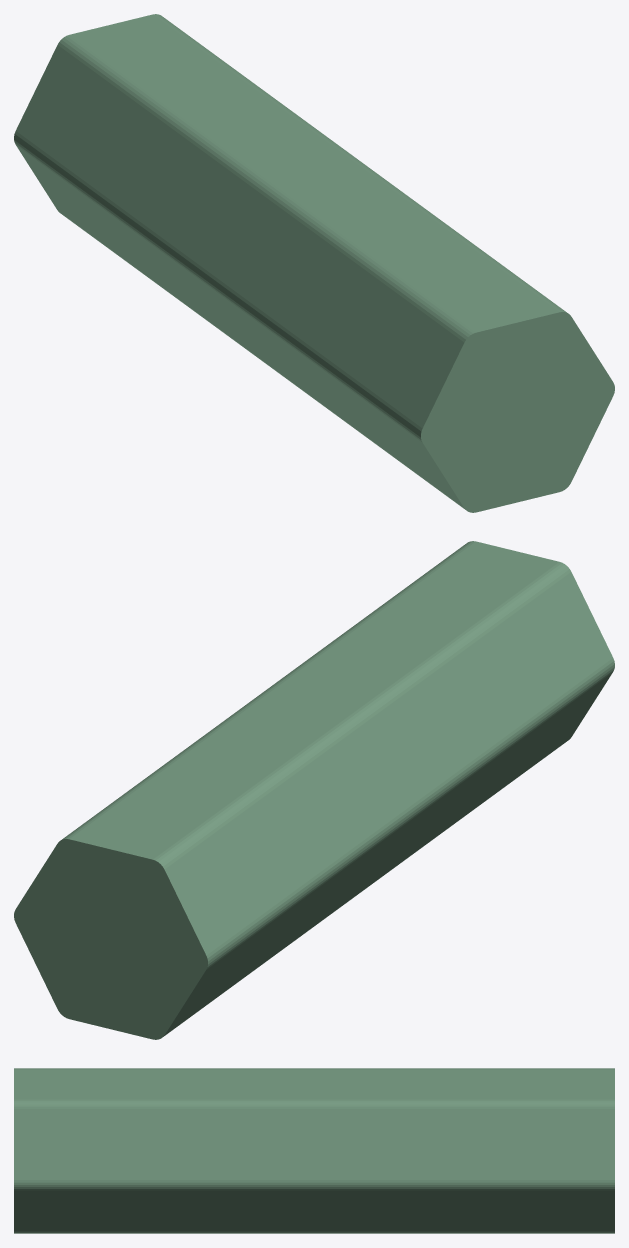
The model's file is peg_53_canonical.obj.
The picture shows the model from 3 angles, top to bottom: view 1: azimuth 30°, elevation 25°; view 2: azimuth 150°, elevation 25°; view 3: azimuth 270°, elevation 25°; orthographic projection. The views are drawn at different scales.
Parts seen in each view (by area): view 1: geometry_0; view 2: geometry_0; view 3: geometry_0.
Boxes of the visible parts, box(x1,y1,x2,y2) form: geometry_0: box(14, 14, 614, 512); geometry_0: box(14, 541, 614, 1039); geometry_0: box(14, 1068, 614, 1233).
Bounding box in the file's own units: 0.0413 × 0.0366 × 0.15.
